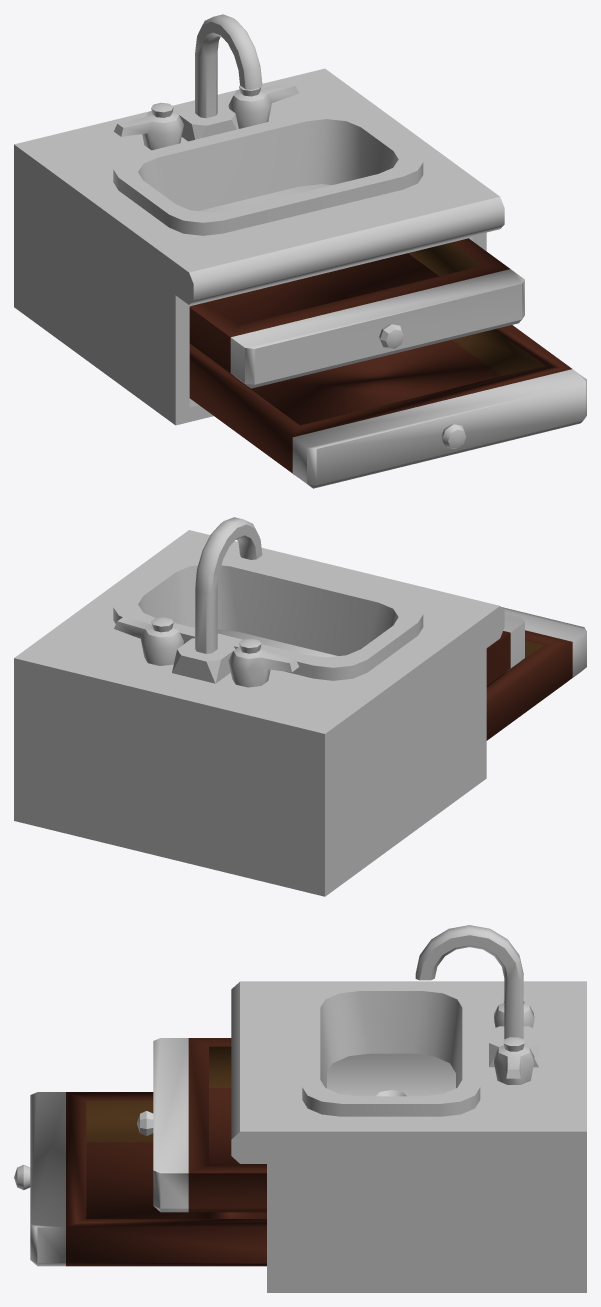
The model's file is SYONSink.obj.
3 views of the same model, one above another, from view 1: azimuth 30°, elevation 25°; view 2: azimuth 150°, elevation 25°; view 3: azimuth 270°, elevation 25° (orthographic).
Visible parts, largest first — view 1: kitchencounter_sink_Cube.001, drawer.001, drawer.002; view 2: kitchencounter_sink_Cube.001, drawer.001, drawer.002; view 3: kitchencounter_sink_Cube.001, drawer.001, drawer.002.
Part boxes in pixels (<box>): kitchencounter_sink_Cube.001: <box>14,14,504,425</box>; drawer.001: <box>189,325,586,488</box>; drawer.002: <box>189,238,524,388</box>; kitchencounter_sink_Cube.001: <box>14,517,504,896</box>; drawer.001: <box>486,607,586,740</box>; drawer.002: <box>486,614,524,685</box>; kitchencounter_sink_Cube.001: <box>231,925,586,1292</box>; drawer.001: <box>14,1092,266,1266</box>; drawer.002: <box>137,1038,266,1212</box>.
Size of the model in its own units: 2 by 1.8 by 3.22.
